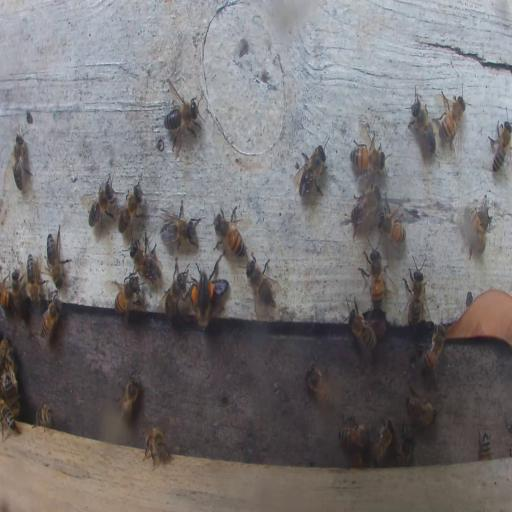nonpollenbee: (163, 92, 200, 150), (407, 89, 438, 156), (293, 142, 329, 198), (86, 172, 118, 234), (160, 202, 200, 248), (346, 300, 378, 357), (214, 205, 245, 260), (404, 253, 426, 330), (245, 256, 277, 308), (440, 91, 466, 151), (44, 227, 70, 287), (466, 198, 492, 256), (130, 236, 162, 282), (117, 182, 144, 236), (348, 185, 379, 232), (420, 322, 446, 377), (305, 360, 334, 409), (116, 370, 142, 422), (163, 264, 188, 318), (489, 116, 512, 174), (113, 271, 141, 316), (10, 132, 31, 190), (377, 203, 406, 244), (143, 428, 171, 469), (406, 389, 437, 426), (366, 246, 383, 310), (371, 418, 394, 465), (39, 293, 61, 339), (348, 145, 386, 171), (338, 422, 372, 451), (9, 268, 27, 317), (26, 254, 42, 307), (396, 428, 414, 466), (0, 404, 19, 439), (2, 368, 17, 410), (1, 337, 13, 380), (34, 404, 54, 429), (479, 430, 492, 462), (0, 280, 12, 308)
pollenbee: (190, 266, 215, 334)
